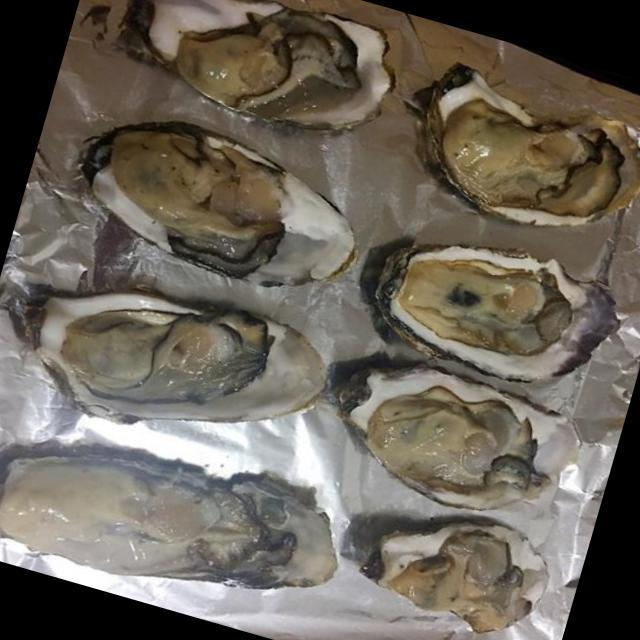Oyster-Open: (0, 398, 360, 640), (10, 254, 347, 480), (58, 97, 380, 315), (348, 209, 640, 411), (319, 336, 598, 539), (96, 0, 408, 156), (401, 57, 640, 258), (359, 488, 565, 640)
